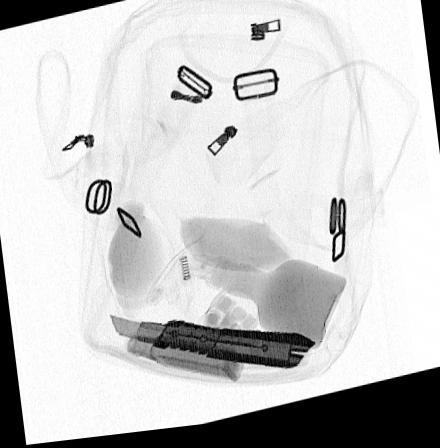Knife: (109, 316, 317, 376)
